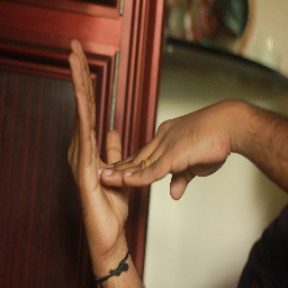Z: (53, 38, 231, 250)
